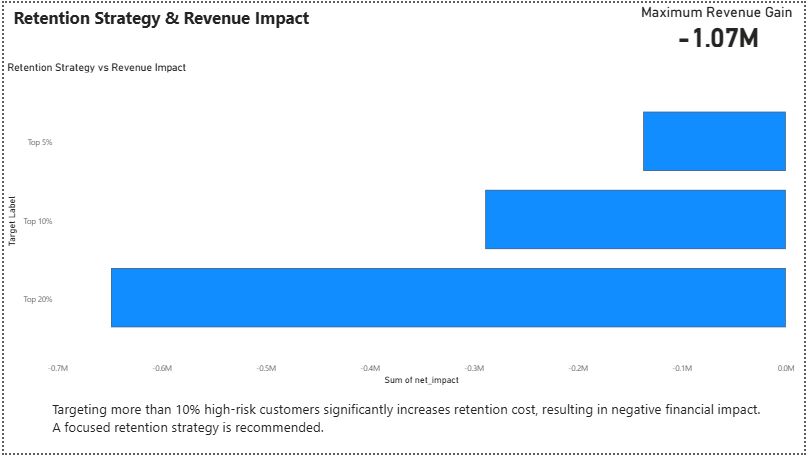

This screenshot's page, from the dashboard's own definition file:
{"tool":"powerbi","page":{"name":"Retention Strategy Simulator","canvas":[1280,720],"ordinal":2},"visuals":[{"type":"textbox","box":[10,0,498.3,110],"z":0},{"type":"clusteredBarChart","title":"Retention Strategy vs Revenue Impact","fields":{"Y":["Sum(scenario_results.net_impact)"],"Category":["scenario_results.Target Label"]},"box":[0,92.5,1270,525],"z":1000},{"type":"card","title":"Maximum Revenue Gain","fields":{"Values":["Sum(scenario_results.net_impact)"]},"box":[1013.3,0,256.7,75],"z":2000},{"type":"textbox","box":[72,630,1150,90],"z":3000}]}

Visuals, with their boxes in screenshot pixels (x1, y1, x2, y2), scaled from the page's 1280x720 canvas onto the 808x457 screenshot:
textbox: <bbox>6, 0, 321, 70</bbox>
"Retention Strategy vs Revenue Impact" clusteredBarChart: <bbox>0, 59, 802, 392</bbox>
"Maximum Revenue Gain" card: <bbox>640, 0, 802, 48</bbox>
textbox: <bbox>45, 400, 771, 456</bbox>
